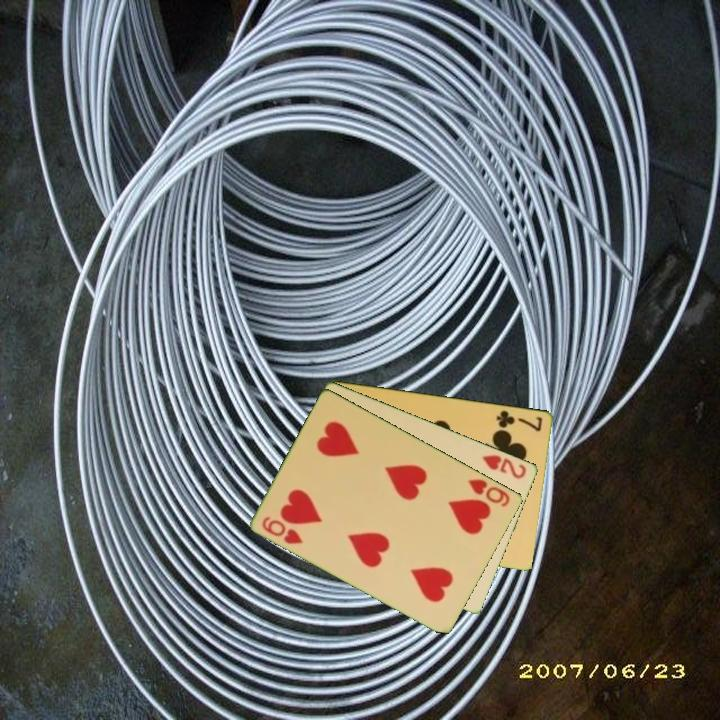2h: (479, 451, 530, 482)
6h: (465, 475, 513, 510), (259, 512, 306, 547)
7c: (493, 407, 546, 434)
